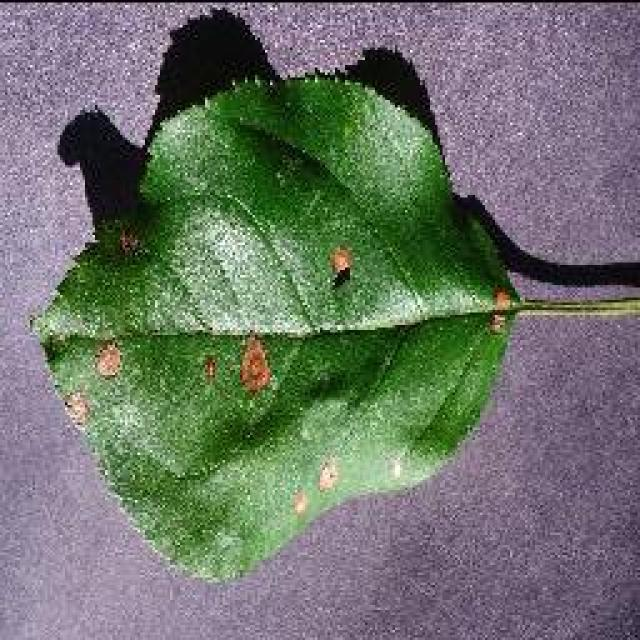apple black rot: (25, 8, 637, 582)
